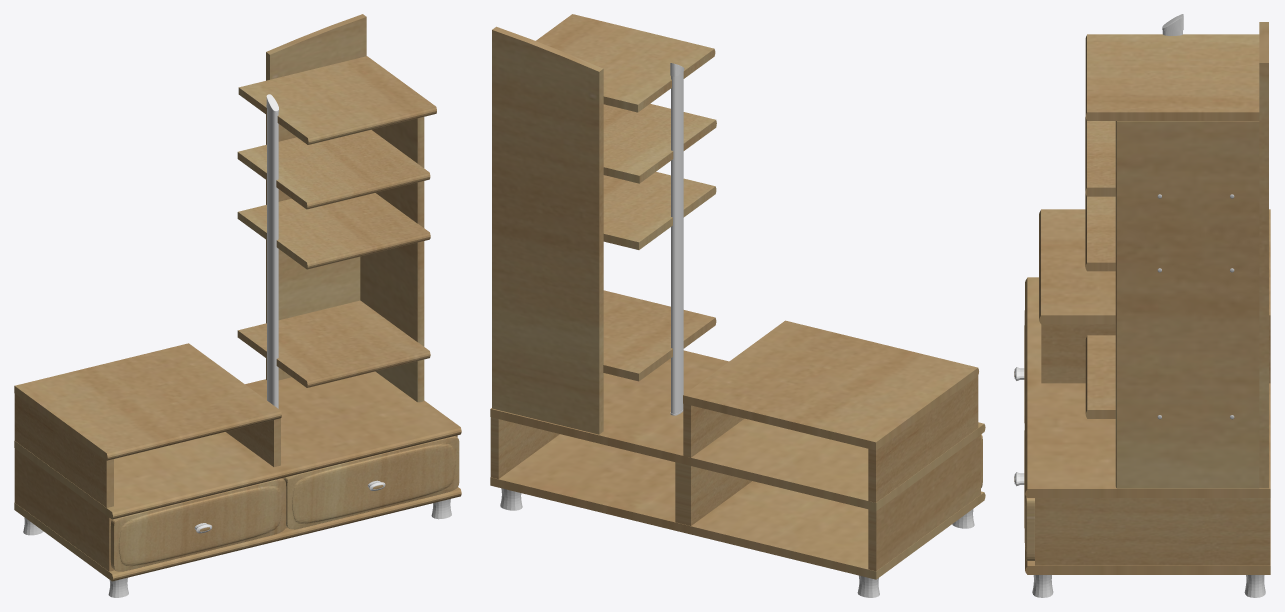
The model's file is sweethome3d-blendswap-cc-0-television-cabinet-51.glb.
3 renders of one model, left to right at view 1: azimuth 30°, elevation 25°; view 2: azimuth 150°, elevation 25°; view 3: azimuth 270°, elevation 25°, orthographic. The views are drawn at different scales.
Visible parts, largest first — view 1: low_part_Cube.002, tv_support_flat.001_Cube.013, dvd_vhs_flats.004_Cube.021, doors.001_Cube.030, doors.002_Cube.031, dvd_vhs_flats.001_Cube.018, DVD_VHS_holder.001_Cube.016, dvd_vhs_flats.003_Cube.020, back_vhsDVD.001_Cube.027, dvd_vhs_flats.002_Cube.019, tv_support_Walls.001_Cube.009, L.P._supports_Cube.006 (+2 smaller); view 2: back_vhsDVD.001_Cube.027, low_part_Cube.002, tv_support_flat.001_Cube.013, L.P._supports_Cube.006, dvd_vhs_flats.004_Cube.021, tv_support_Walls.001_Cube.009, dvd_vhs_flats.001_Cube.018, dvd_vhs_flats.003_Cube.020, dvd_vhs_flats.002_Cube.019, flashy_supporter.001_Cube.025, noga_Cube; view 3: DVD_VHS_holder.001_Cube.016, L.P._supports_Cube.006, low_part_Cube.002, dvd_vhs_flats.004_Cube.021, tv_support_flat.001_Cube.013, back_vhsDVD.001_Cube.027, tv_support_Walls.001_Cube.009, dvd_vhs_flats.001_Cube.018, dvd_vhs_flats.003_Cube.020, dvd_vhs_flats.002_Cube.019, noga_Cube, doors.002_Cube.031 (+1 smaller).
Boxes of the visible parts, box(x1,y1,x2,y2) form: low_part_Cube.002: box(14, 371, 461, 581); tv_support_flat.001_Cube.013: box(14, 343, 281, 460); dvd_vhs_flats.004_Cube.021: box(238, 56, 436, 144); doors.001_Cube.030: box(110, 478, 286, 571); doors.002_Cube.031: box(284, 436, 459, 529); dvd_vhs_flats.001_Cube.018: box(237, 300, 430, 387); DVD_VHS_holder.001_Cube.016: box(360, 117, 424, 402); dvd_vhs_flats.003_Cube.020: box(237, 130, 430, 209); back_vhsDVD.001_Cube.027: box(266, 14, 366, 380); dvd_vhs_flats.002_Cube.019: box(237, 193, 430, 269); tv_support_Walls.001_Cube.009: box(14, 393, 280, 507); L.P._supports_Cube.006: box(14, 435, 457, 571); back_vhsDVD.001_Cube.027: box(492, 26, 603, 434); low_part_Cube.002: box(490, 350, 985, 579); tv_support_flat.001_Cube.013: box(683, 320, 978, 450); L.P._supports_Cube.006: box(490, 417, 980, 571); dvd_vhs_flats.004_Cube.021: box(536, 14, 715, 112); tv_support_Walls.001_Cube.009: box(683, 376, 978, 502); dvd_vhs_flats.001_Cube.018: box(603, 290, 716, 381); dvd_vhs_flats.003_Cube.020: box(603, 103, 716, 183); dvd_vhs_flats.002_Cube.019: box(603, 172, 716, 249); flashy_supporter.001_Cube.025: box(670, 63, 684, 415); noga_Cube: box(500, 488, 974, 597); DVD_VHS_holder.001_Cube.016: box(1115, 121, 1259, 488); L.P._supports_Cube.006: box(1035, 498, 1270, 565); low_part_Cube.002: box(1025, 277, 1270, 574); dvd_vhs_flats.004_Cube.021: box(1085, 34, 1259, 120); tv_support_flat.001_Cube.013: box(1039, 209, 1270, 324); back_vhsDVD.001_Cube.027: box(1259, 22, 1268, 488); tv_support_Walls.001_Cube.009: box(1041, 324, 1270, 383); dvd_vhs_flats.001_Cube.018: box(1085, 335, 1115, 418); dvd_vhs_flats.003_Cube.020: box(1085, 117, 1115, 196); dvd_vhs_flats.002_Cube.019: box(1085, 193, 1115, 271); noga_Cube: box(1032, 575, 1265, 597); doors.002_Cube.031: box(1014, 416, 1034, 560).
Size of the model in its own units: 135 by 160 by 69.28.
15 materials, 12 textured.
